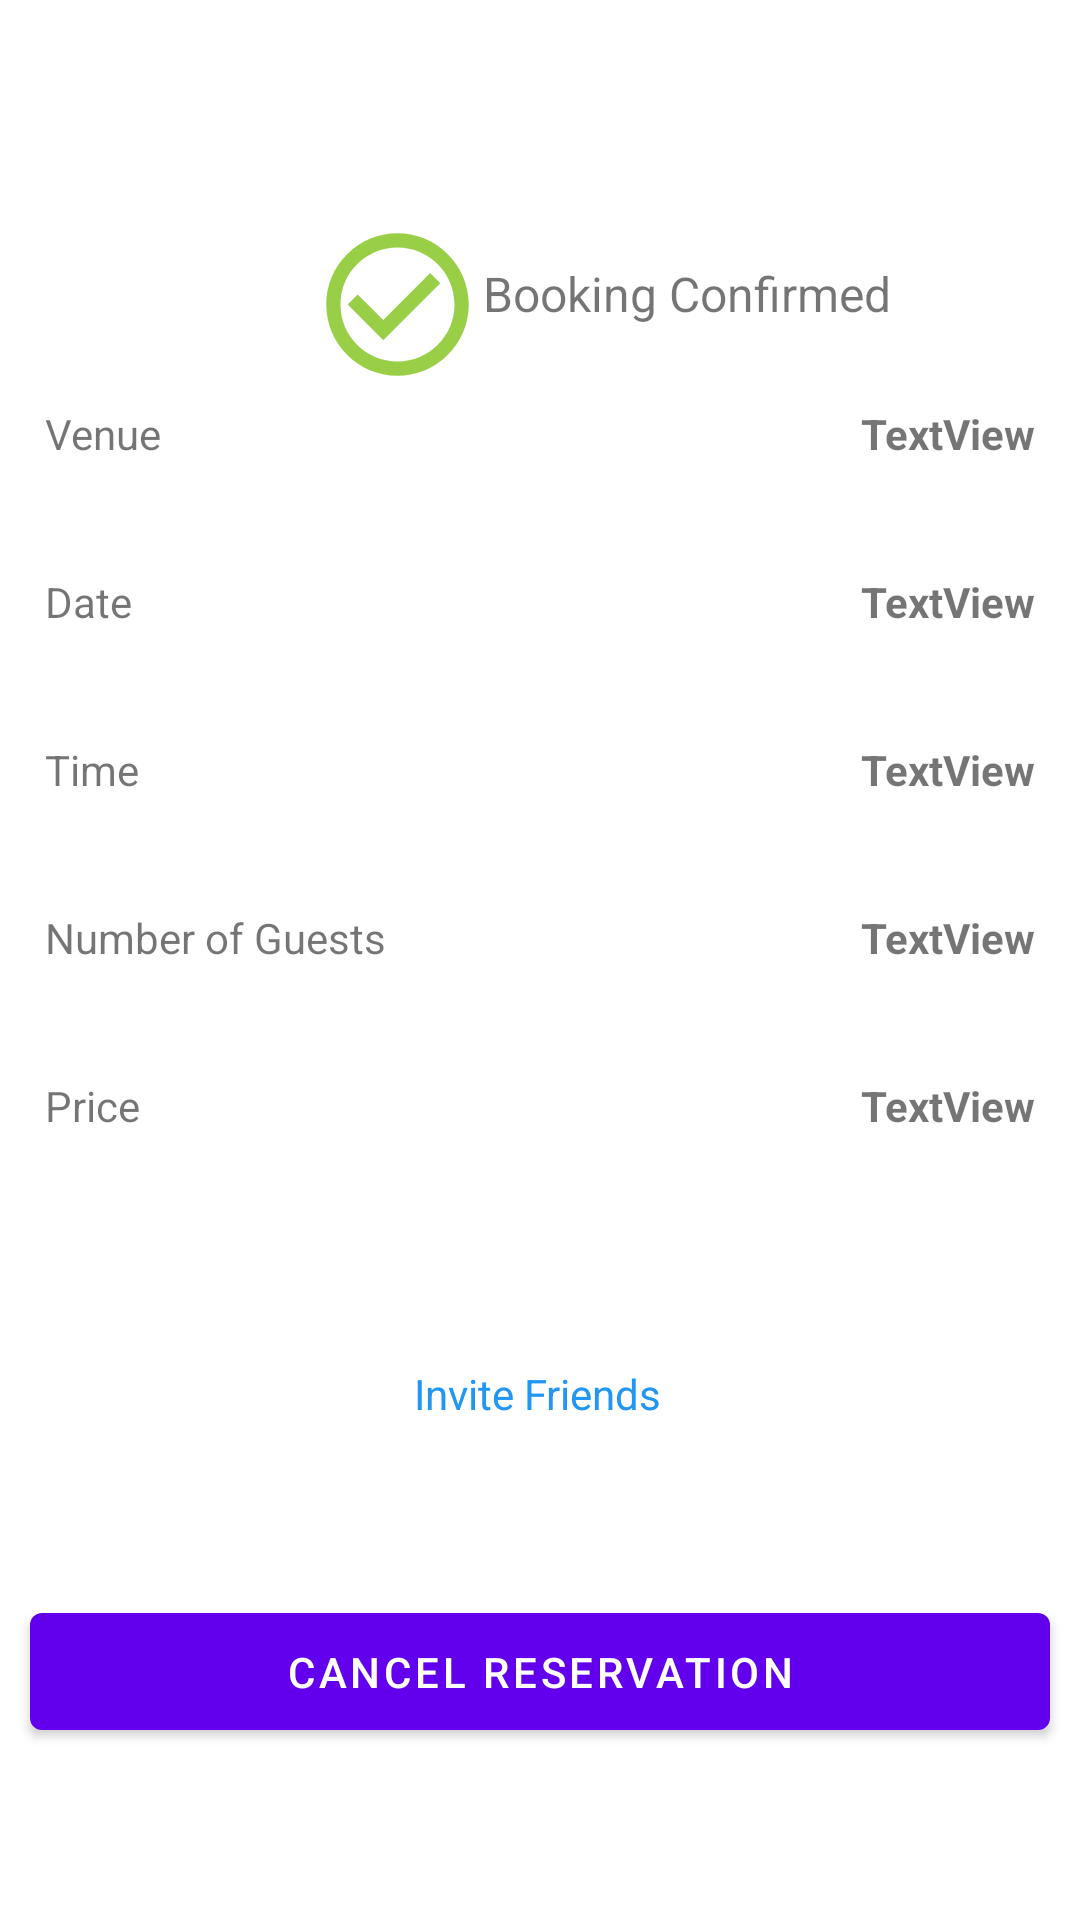

Locate icon controls on the screen. Image size 1080*1920, boxes as (x1, y1, x2, y2).
check: (326, 233, 469, 376)
